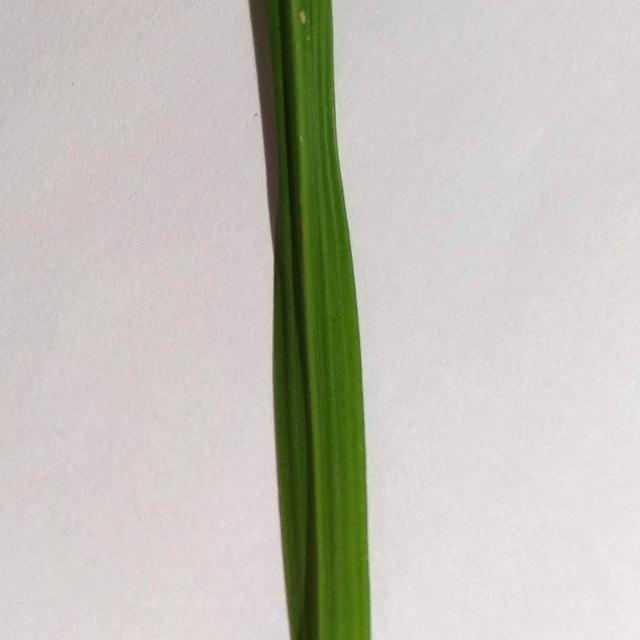Rice_Healthy: (263, 0, 370, 640)
